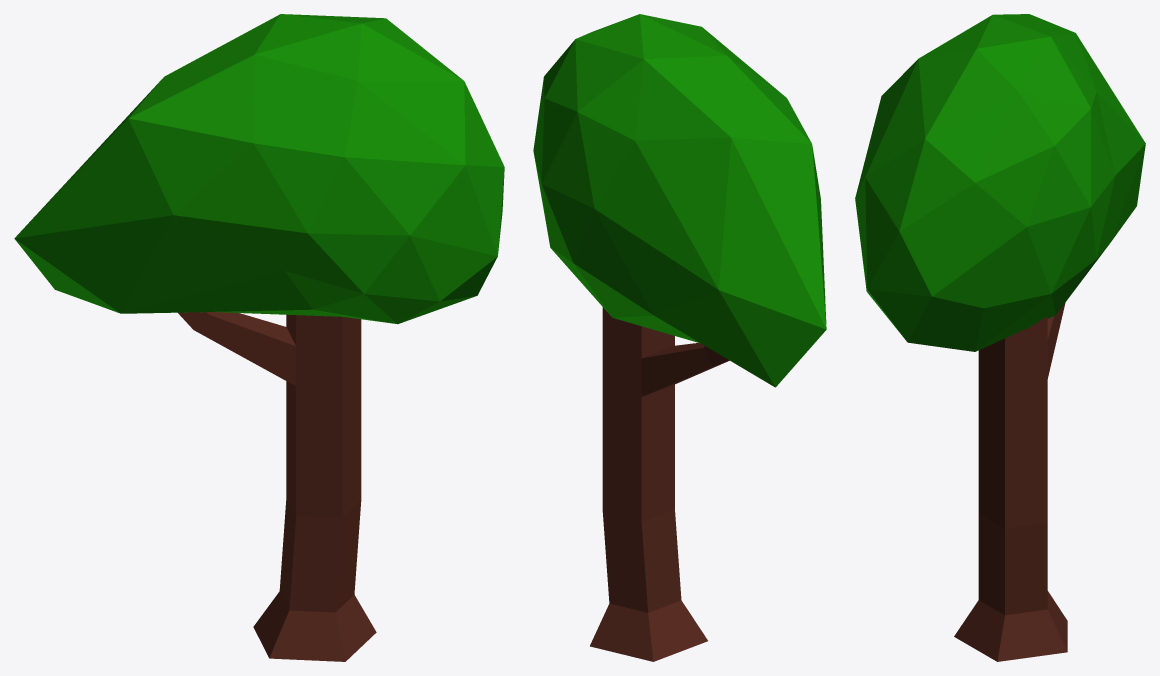
The model's file is tree10.fbx.
The picture shows the model from 3 angles, left to right: view 1: azimuth 30°, elevation 25°; view 2: azimuth 150°, elevation 25°; view 3: azimuth 270°, elevation 25°; orthographic projection. The views are drawn at different scales.
Parts seen in each view (by area): view 1: Tree4.003; view 2: Tree4.003; view 3: Tree4.003.
Boxes of the visible parts, bbox=[...] form: Tree4.003: bbox=[14, 14, 504, 661]; Tree4.003: bbox=[533, 14, 826, 661]; Tree4.003: bbox=[855, 14, 1145, 661].
Bounding box in the file's own units: 14.67 × 22.49 × 9.86.
